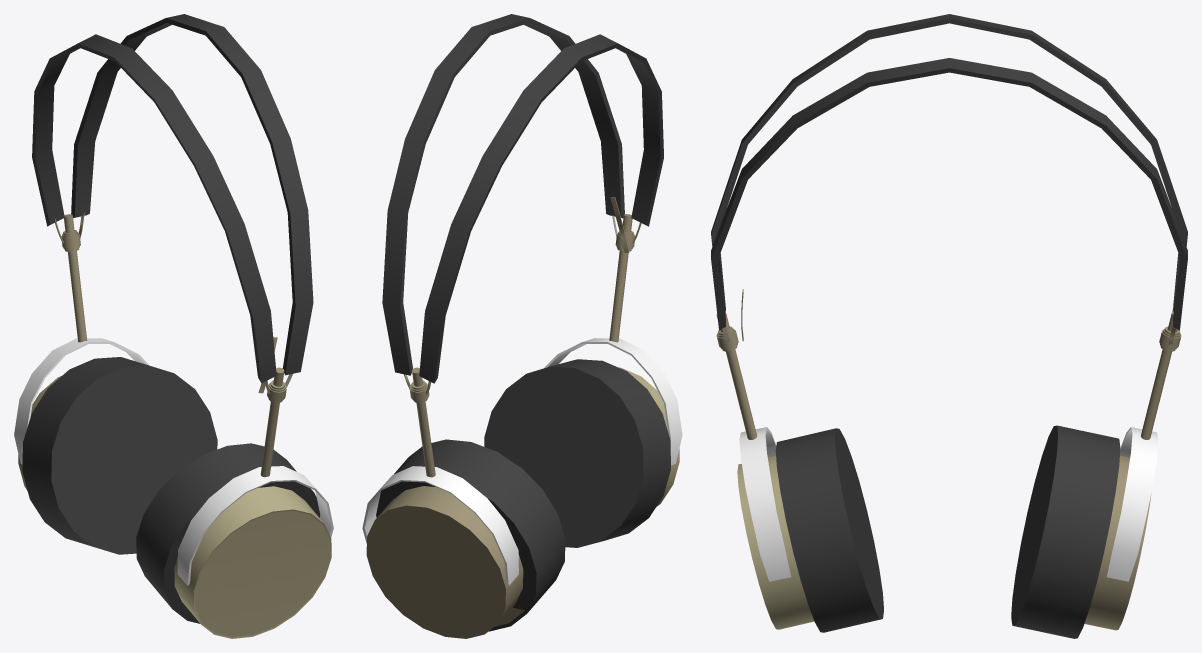
File: headphones.glb
The picture shows the model from 3 angles, left to right: view 1: azimuth 30°, elevation 25°; view 2: azimuth 150°, elevation 25°; view 3: azimuth 270°, elevation 25°; orthographic projection. The views are drawn at different scales.
Visible parts, largest first — view 1: pCylinder4.001; view 2: pCylinder4.001; view 3: pCylinder4.001.
Part boxes in pixels (x1,y1,x2,y2): pCylinder4.001: (14,14,333,638); pCylinder4.001: (362,14,682,638); pCylinder4.001: (711,14,1187,638).
Bounding box in the file's own units: 0.0209 × 0.0658 × 0.0482.
